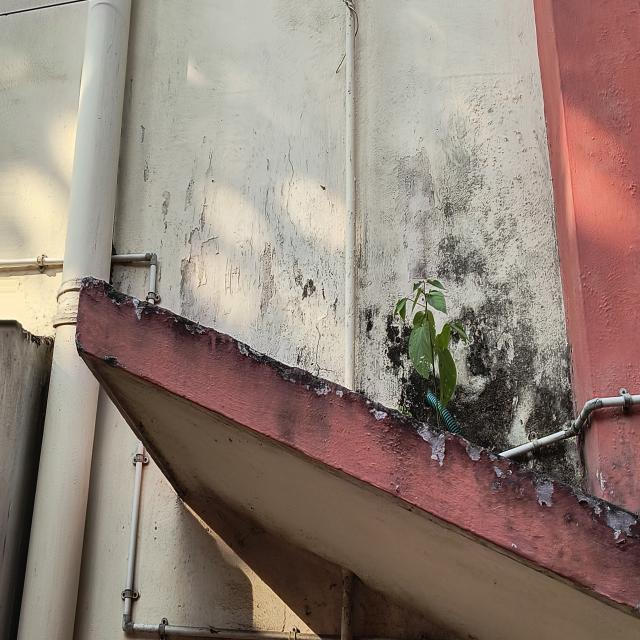peeling: (79, 276, 640, 615), (161, 169, 385, 390)
stain_mould: (79, 274, 640, 617), (445, 240, 581, 448), (386, 268, 457, 432)
